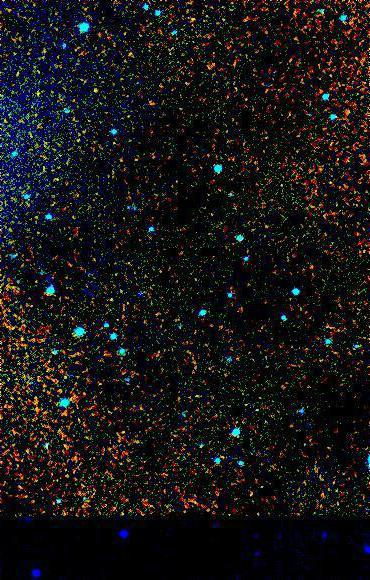star: (81, 74, 111, 104)
